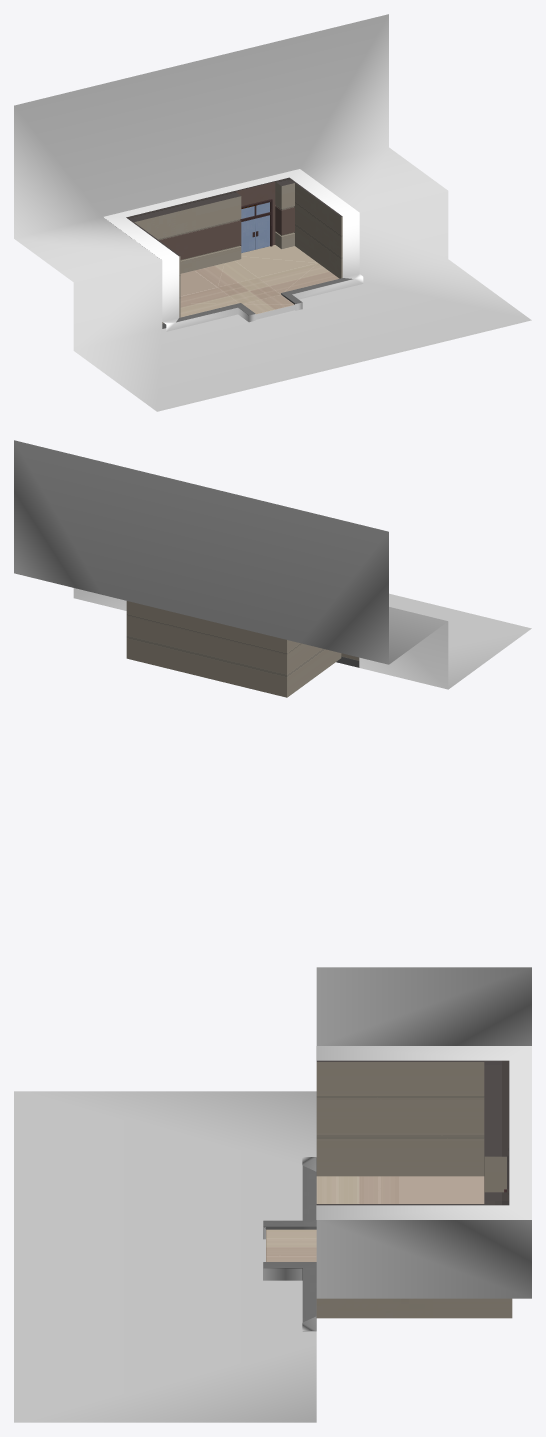
The model's file is a_com_building_b08.gltf.
3 renders of one model, top to bottom at view 1: azimuth 30°, elevation 25°; view 2: azimuth 150°, elevation 25°; view 3: azimuth 270°, elevation 25°, orthographic. The views are drawn at different scales.
Parts seen in each view (by area): view 1: a_com_building_b08_outsideblank01_mesh_shape:a_com_building_, um_a_com_building_b08_model_a_com_building_b08_modelShape:a_ (×6), nomerge_outside_edge_shape:mat_texture_edge02, a_com_building_b08_ceiling01_mesh_shape:a_com_building_b08_c; view 2: a_com_building_b08_outsideblank01_mesh_shape:a_com_building_, um_a_com_building_b08_model_a_com_building_b08_modelShape:a_; view 3: a_com_building_b08_outsideblank01_mesh_shape:a_com_building_, um_a_com_building_b08_model_a_com_building_b08_modelShape:a_ (×4), nomerge_outside_edge_shape:mat_texture_edge02, a_com_building_b08_ceiling01_mesh_shape:a_com_building_b08_c.
Part boxes in pixels (x1,y1,x2,y2): a_com_building_b08_outsideblank01_mesh_shape:a_com_building_: [14, 14, 531, 411]; um_a_com_building_b08_model_a_com_building_b08_modelShape:a_ (×6): [134, 182, 352, 328]; nomerge_outside_edge_shape:mat_texture_edge02: [103, 169, 363, 331]; a_com_building_b08_ceiling01_mesh_shape:a_com_building_b08_c: [126, 177, 342, 256]; a_com_building_b08_outsideblank01_mesh_shape:a_com_building_: [14, 440, 531, 689]; um_a_com_building_b08_model_a_com_building_b08_modelShape:a_: [126, 601, 359, 697]; a_com_building_b08_outsideblank01_mesh_shape:a_com_building_: [14, 967, 531, 1422]; um_a_com_building_b08_model_a_com_building_b08_modelShape:a_ (×4): [263, 1062, 512, 1331]; nomerge_outside_edge_shape:mat_texture_edge02: [263, 1046, 531, 1330]; a_com_building_b08_ceiling01_mesh_shape:a_com_building_b08_c: [316, 1060, 509, 1205].
Bounding box in the file's own units: 28 × 14.38 × 18.5.
9 materials, 7 textured.
